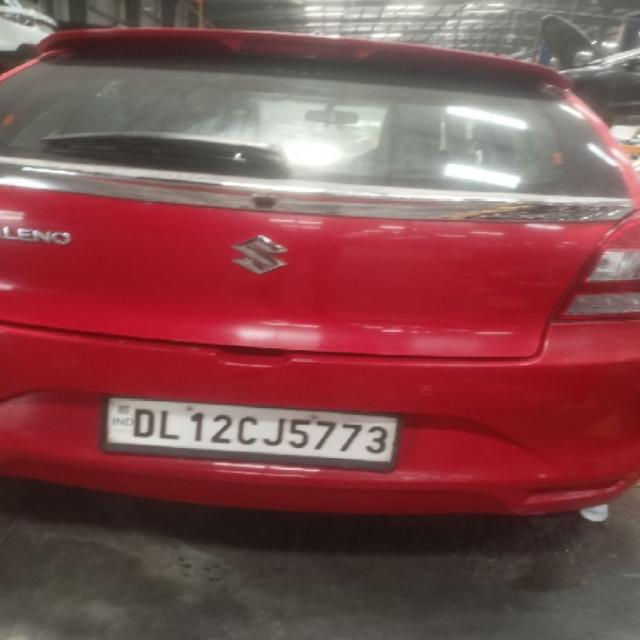license_plate: (98, 395, 402, 472)
